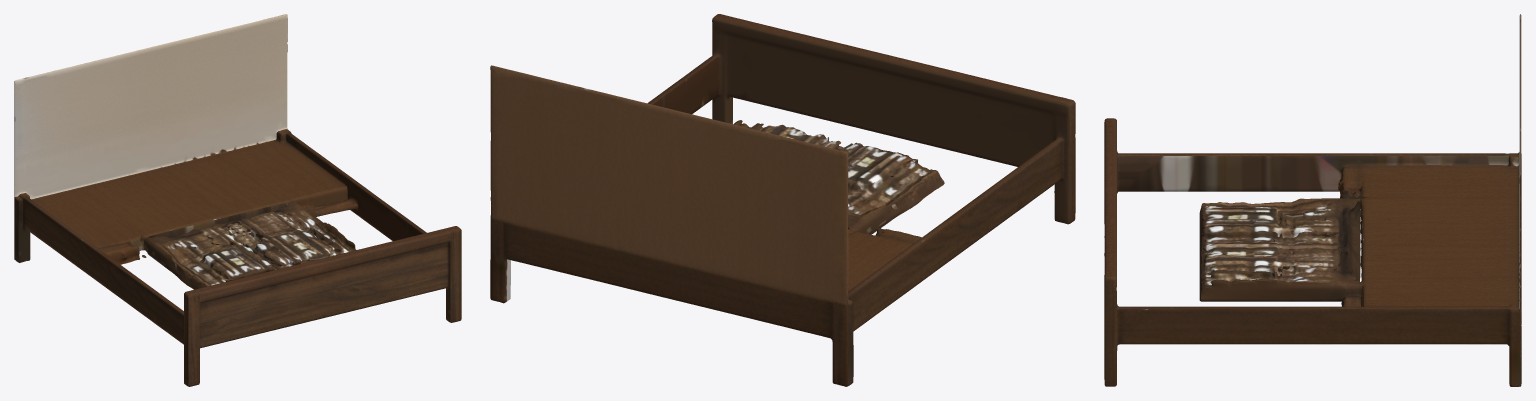
File: bed__bed#1.glb
3 renders of one model, left to right at view 1: azimuth 30°, elevation 25°; view 2: azimuth 150°, elevation 25°; view 3: azimuth 270°, elevation 25°, orthographic. The views are drawn at different scales.
Parts seen in each view (by area): view 1: tmpaz9rps7k.ply; view 2: tmpaz9rps7k.ply; view 3: tmpaz9rps7k.ply.
Part boxes in pixels (<box>): tmpaz9rps7k.ply: <box>14,14,461,386</box>; tmpaz9rps7k.ply: <box>490,14,1075,386</box>; tmpaz9rps7k.ply: <box>1104,14,1521,386</box>.
Size of the model in its own units: 1.8 by 1.13 by 1.99.
Materials: 1 (1 with a texture image).
